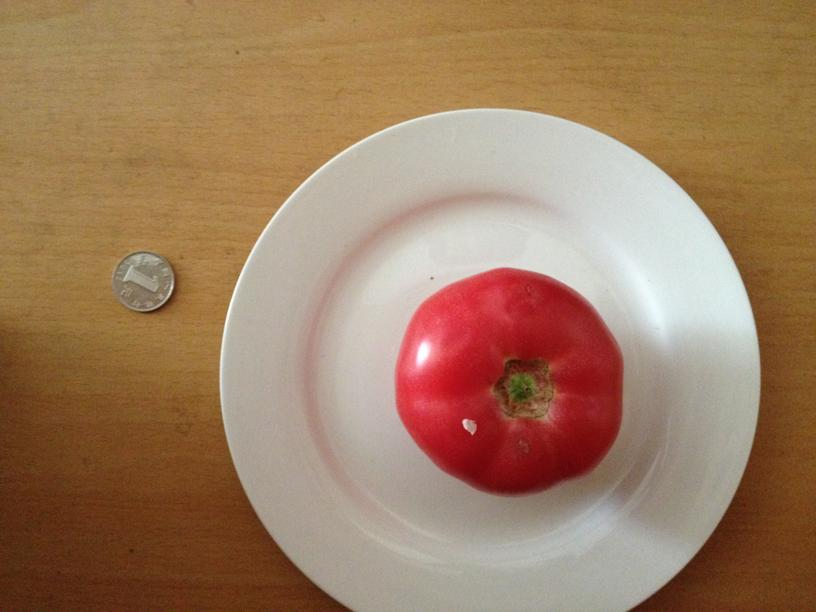coin: (108, 249, 179, 316)
tomato: (392, 262, 630, 495)
